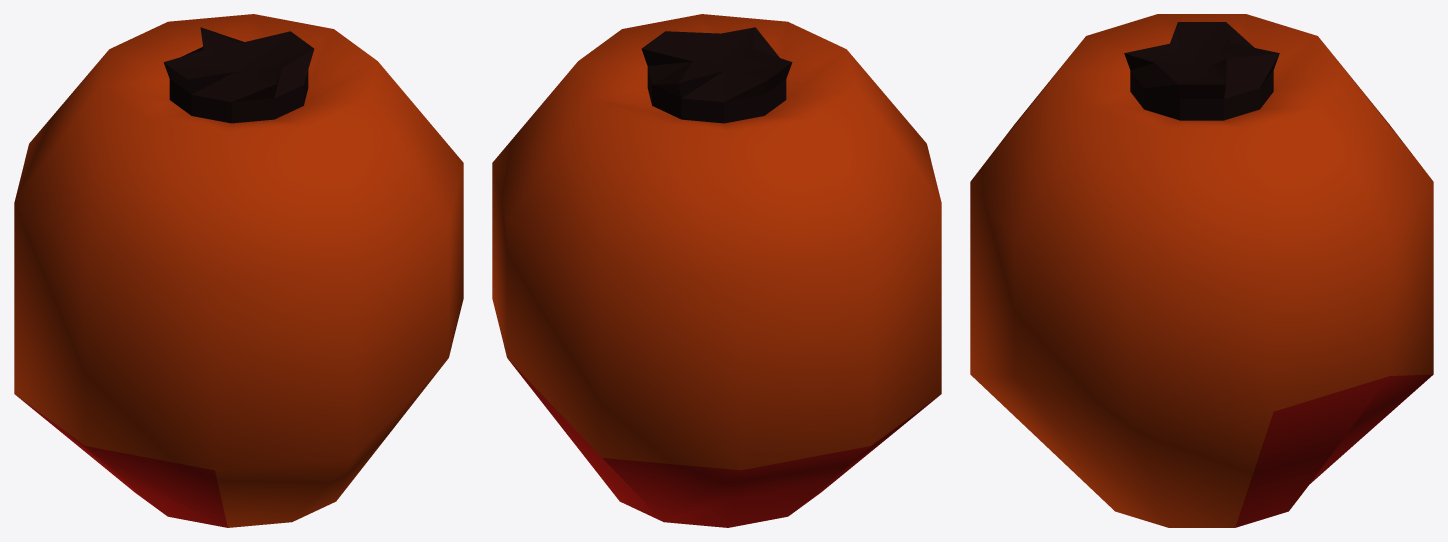
File: chontaduro.FBX
The picture shows the model from 3 angles, left to right: view 1: azimuth 30°, elevation 25°; view 2: azimuth 150°, elevation 25°; view 3: azimuth 270°, elevation 25°; orthographic projection.
Parts seen in each view (by area): view 1: Sphere001; view 2: Sphere001; view 3: Sphere001.
Boxes of the visible parts, x1,y1,x2,y2 form: Sphere001: (14,14,463,527); Sphere001: (492,14,941,527); Sphere001: (970,14,1433,527).
Size of the model in its own units: 36.3 by 43.04 by 38.17.
